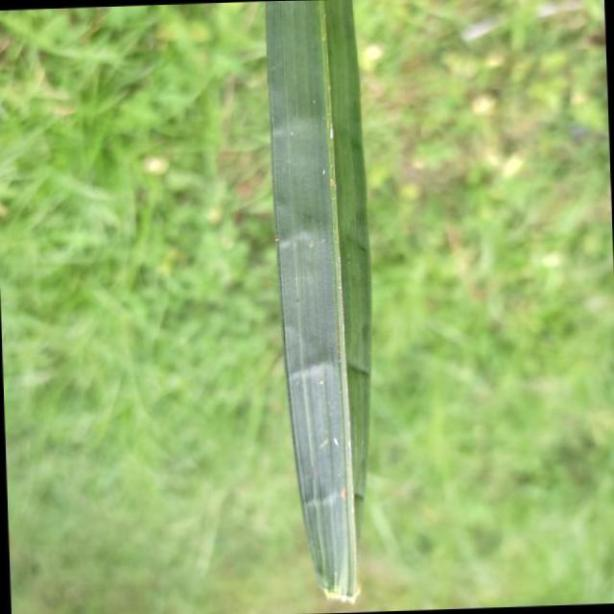Boron: (263, 0, 370, 601)
